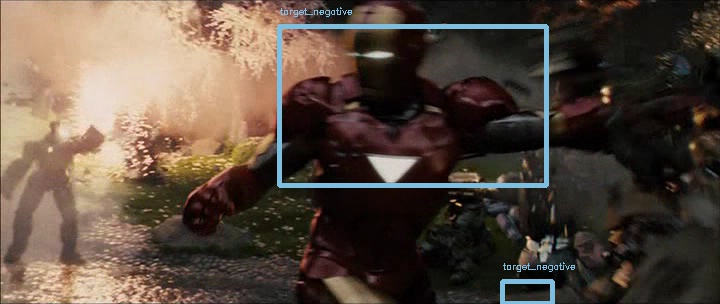person: (347, 5, 423, 85), (346, 5, 422, 85), (348, 5, 424, 85), (347, 4, 423, 84), (347, 6, 423, 86)
target_negative: (119, 234, 706, 299), (215, 201, 546, 297), (333, 205, 438, 298), (258, 80, 710, 95), (450, 162, 487, 187), (282, 97, 328, 98)
